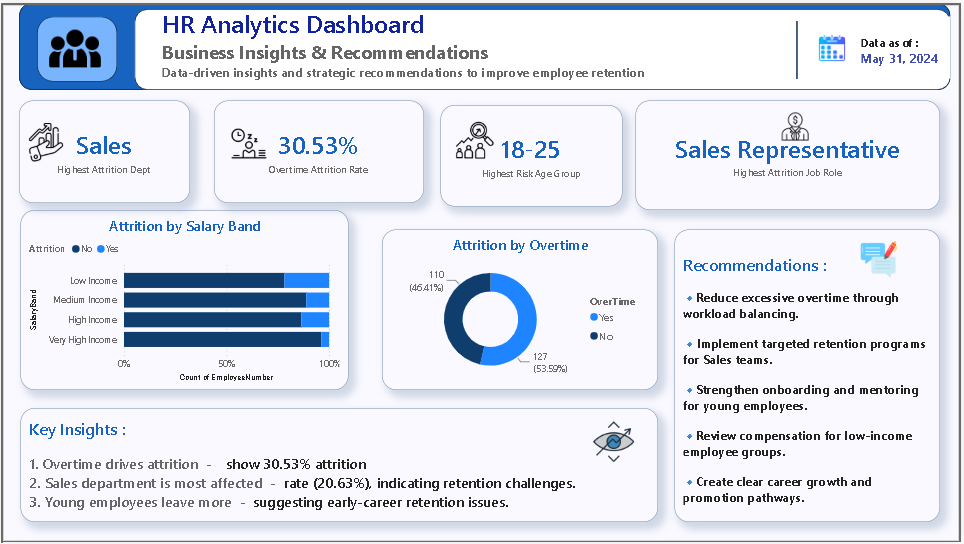

This screenshot's page, from the dashboard's own definition file:
{"tool":"powerbi","page":{"name":"Business Insights & Recommendations","canvas":[1280,720],"ordinal":4},"visuals":[{"type":"shape","box":[24,0,1242,116],"z":1000},{"type":"shape","box":[178,8,1088,108],"z":2000},{"type":"textbox","box":[210,0,812,116],"z":3000},{"type":"shape","box":[48.6,18.6,107.1,87.1],"z":4000},{"type":"image","box":[48.9,24.4,101.1,73.3],"z":5000},{"type":"shape","box":[1022.9,24.3,78.6,77.1],"z":6000},{"type":"textbox","box":[1141.4,18.6,124.3,82.9],"z":7000},{"type":"image","box":[1088,38,40,44],"z":8000},{"type":"donutChart","title":"Attrition by Overtime","fields":{"Category":["HR_Analytics_Cleaned.OverTime"],"Y":["HR_Analytics_Cleaned.Attrition Count"]},"box":[508,302,368,214],"z":11000},{"type":"cardVisual","fields":{"Data":["HR_Analytics_Cleaned.Highest Attrition Dept"]},"box":[24.4,130.1,227.7,136.6],"z":12000},{"type":"cardVisual","fields":{"Data":["HR_Analytics_Cleaned.Highest Attrition Job Role"]},"box":[846,130,406,146],"z":13000},{"type":"cardVisual","fields":{"Data":["HR_Analytics_Cleaned.Highest Risk Age Group"]},"box":[585,135,242.5,135],"z":14000},{"type":"cardVisual","fields":{"Data":["HR_Analytics_Cleaned.Overtime Attrition Rate"]},"box":[284.6,130.1,279.8,136.6],"z":15000},{"type":"hundredPercentStackedBarChart","title":"Attrition by Salary Band","fields":{"Category":["HR_Analytics_Cleaned.SalaryBand"],"Y":["CountNonNull(HR_Analytics_Cleaned.EmployeeNumber)"],"Series":["HR_Analytics_Cleaned.Attrition"]},"box":[25,275,437.5,240],"z":16000},{"type":"textbox","box":[898,302,354,390],"z":16001},{"type":"textbox","box":[26,540,850,152],"z":16002},{"type":"actionButton","box":[0,0,1280,720],"z":16003},{"type":"image","box":[1127.8,316.7,84.4,51.1],"z":16004},{"type":"image","box":[736,554,162,62],"z":16005},{"type":"image","box":[1010,145,98,37],"z":16006},{"type":"image","box":[604,151,55,62],"z":16007},{"type":"image","box":[304,160,53,53],"z":16008},{"type":"image","box":[26,160,68,51],"z":16009}]}

Visuals, with their boxes in screenshot pixels (x1, y1, x2, y2), scaled from the page's 1280x720 canvas onto the 964x544 screenshot:
shape: pyautogui.locateOnScreen(18, 0, 953, 88)
shape: pyautogui.locateOnScreen(134, 6, 953, 88)
textbox: pyautogui.locateOnScreen(158, 0, 770, 88)
shape: pyautogui.locateOnScreen(37, 14, 117, 80)
image: pyautogui.locateOnScreen(37, 18, 113, 74)
shape: pyautogui.locateOnScreen(770, 18, 830, 77)
textbox: pyautogui.locateOnScreen(860, 14, 953, 77)
image: pyautogui.locateOnScreen(819, 29, 850, 62)
"Attrition by Overtime" donutChart: pyautogui.locateOnScreen(383, 228, 660, 390)
cardVisual - HR_Analytics_Cleaned.Highest Attrition Dept: pyautogui.locateOnScreen(18, 98, 190, 202)
cardVisual - HR_Analytics_Cleaned.Highest Attrition Job Role: pyautogui.locateOnScreen(637, 98, 943, 209)
cardVisual - HR_Analytics_Cleaned.Highest Risk Age Group: pyautogui.locateOnScreen(441, 102, 623, 204)
cardVisual - HR_Analytics_Cleaned.Overtime Attrition Rate: pyautogui.locateOnScreen(214, 98, 425, 202)
"Attrition by Salary Band" hundredPercentStackedBarChart: pyautogui.locateOnScreen(19, 208, 348, 389)
textbox: pyautogui.locateOnScreen(676, 228, 943, 523)
textbox: pyautogui.locateOnScreen(20, 408, 660, 523)
actionButton: pyautogui.locateOnScreen(0, 0, 963, 543)
image: pyautogui.locateOnScreen(849, 239, 913, 278)
image: pyautogui.locateOnScreen(554, 419, 676, 465)
image: pyautogui.locateOnScreen(761, 110, 834, 138)
image: pyautogui.locateOnScreen(455, 114, 496, 161)
image: pyautogui.locateOnScreen(229, 121, 269, 161)
image: pyautogui.locateOnScreen(20, 121, 71, 159)
